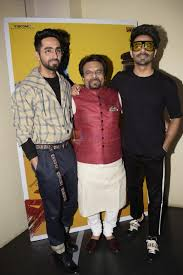Bad: (11, 29, 122, 275), (75, 24, 181, 262)
